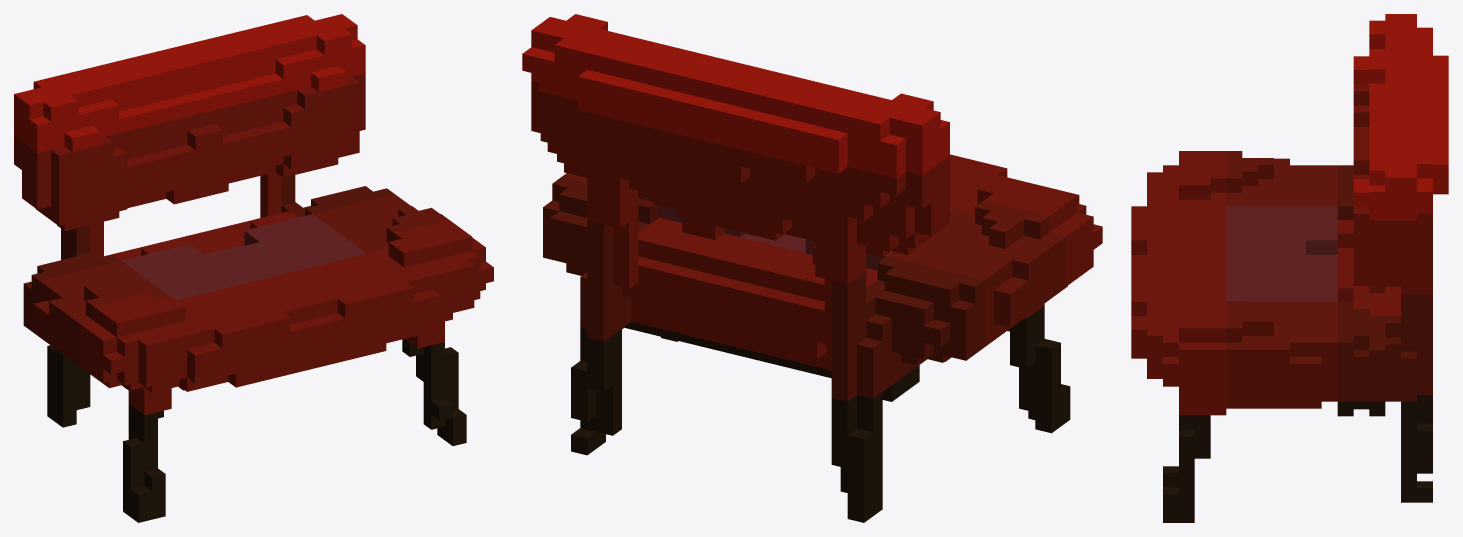
The model's file is SheenChair_256B_vox.glb.
3 views of the same model, side by side, from view 1: azimuth 30°, elevation 25°; view 2: azimuth 150°, elevation 25°; view 3: azimuth 270°, elevation 25° (orthographic). The views are drawn at different scales.
Bounding box in the file's own units: 2 × 1.69 × 1.41.
